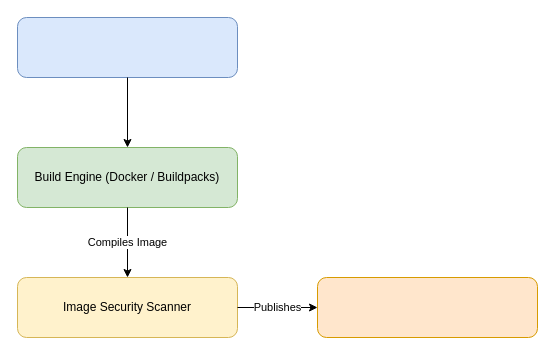
This 555x355 diagram has some shape labels left out. The centre of each missing label's shape, as x and y in pixels:
"OCI Image Registry" goes at (x=427, y=307).
"Source Code Repository" goes at (x=127, y=47).
